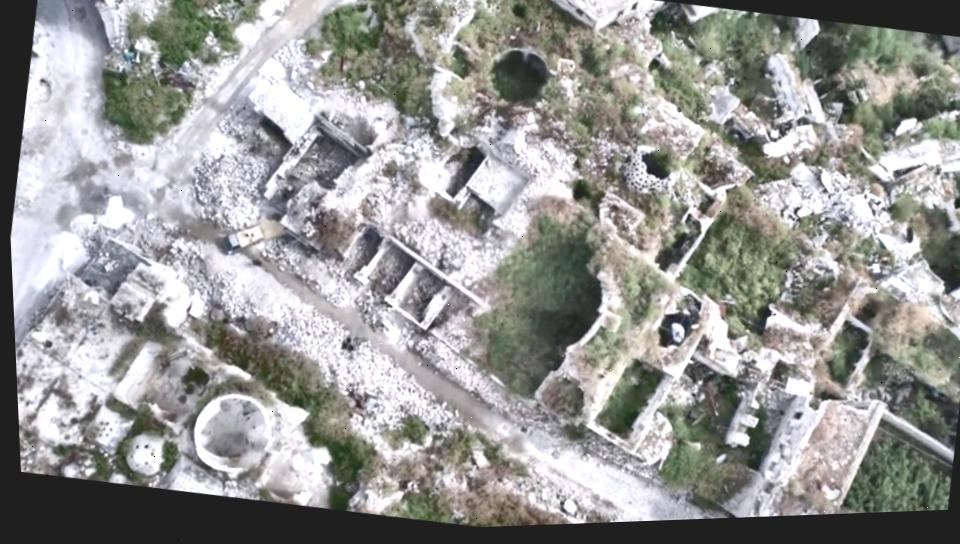kapali: (135, 166, 486, 433)
